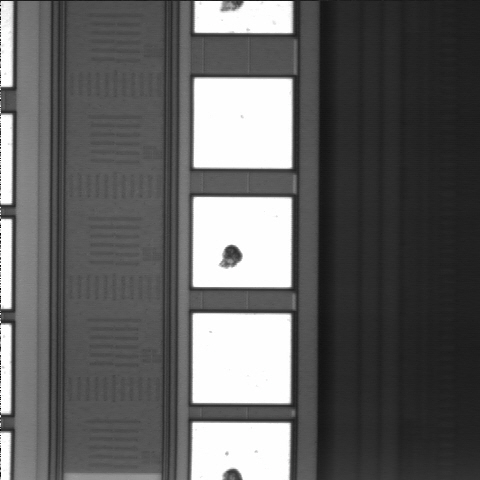pad: (194, 78, 292, 168), (193, 197, 291, 287), (193, 313, 291, 403)
